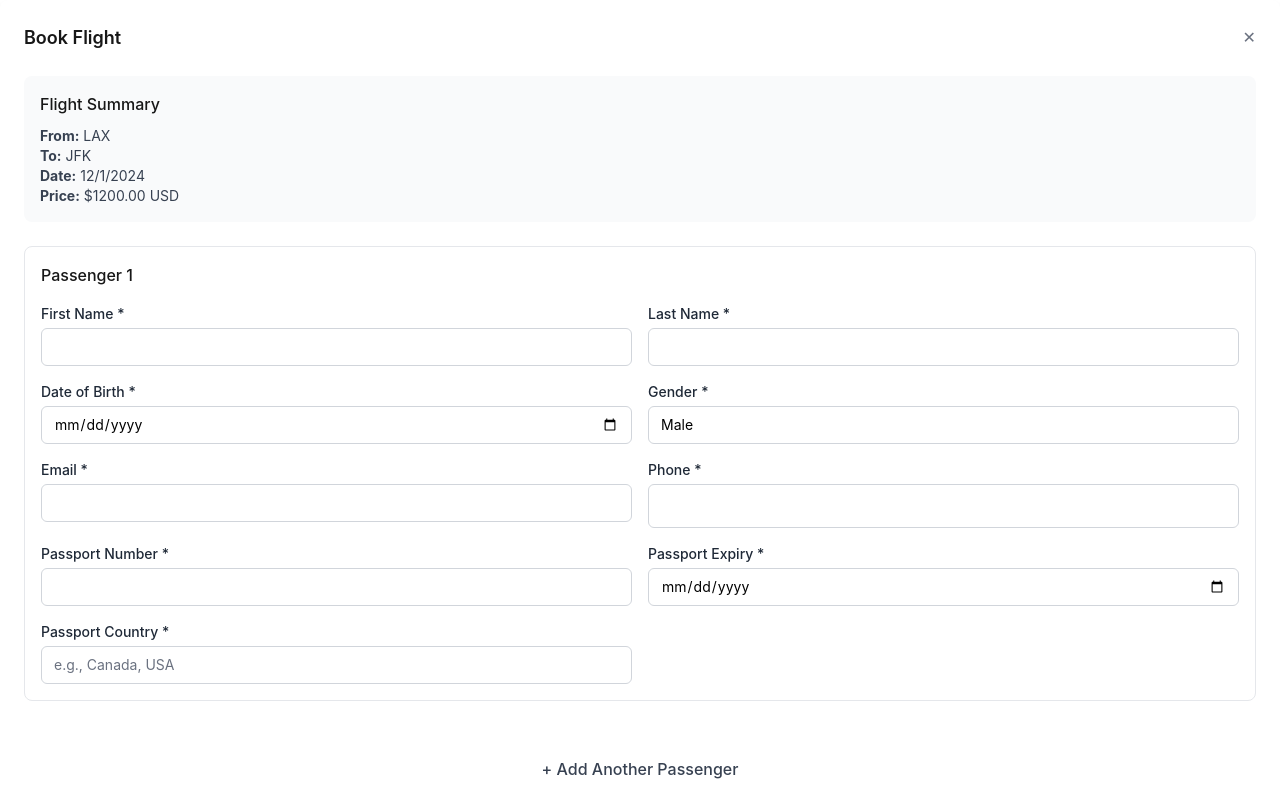
it: FlightBookingForm › allows adding additional passengers
This screenshot has width=1280, height=808.
Click the button "+ Add Another Passenger" at (640, 770), box [24,749,1256,790]
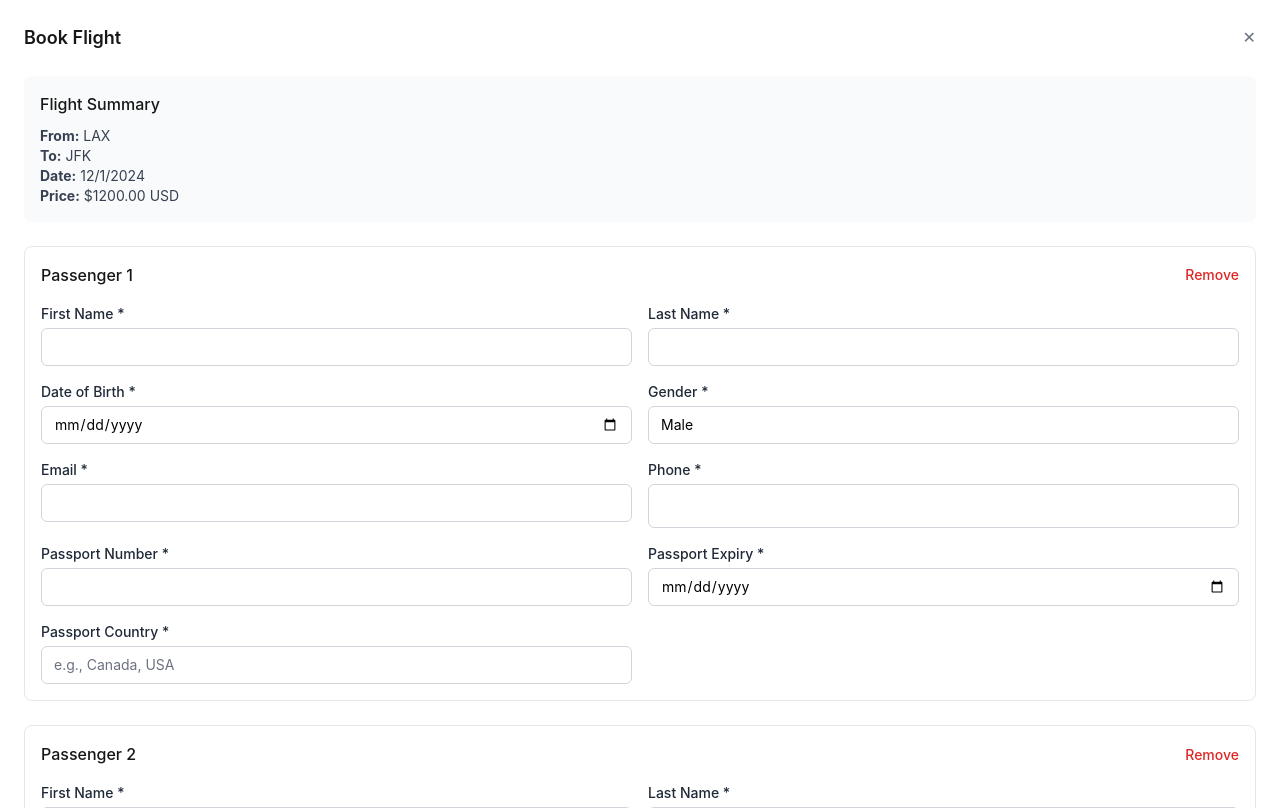
Expected: the heading "Passenger 2" is shown, [41,742,136,767]
